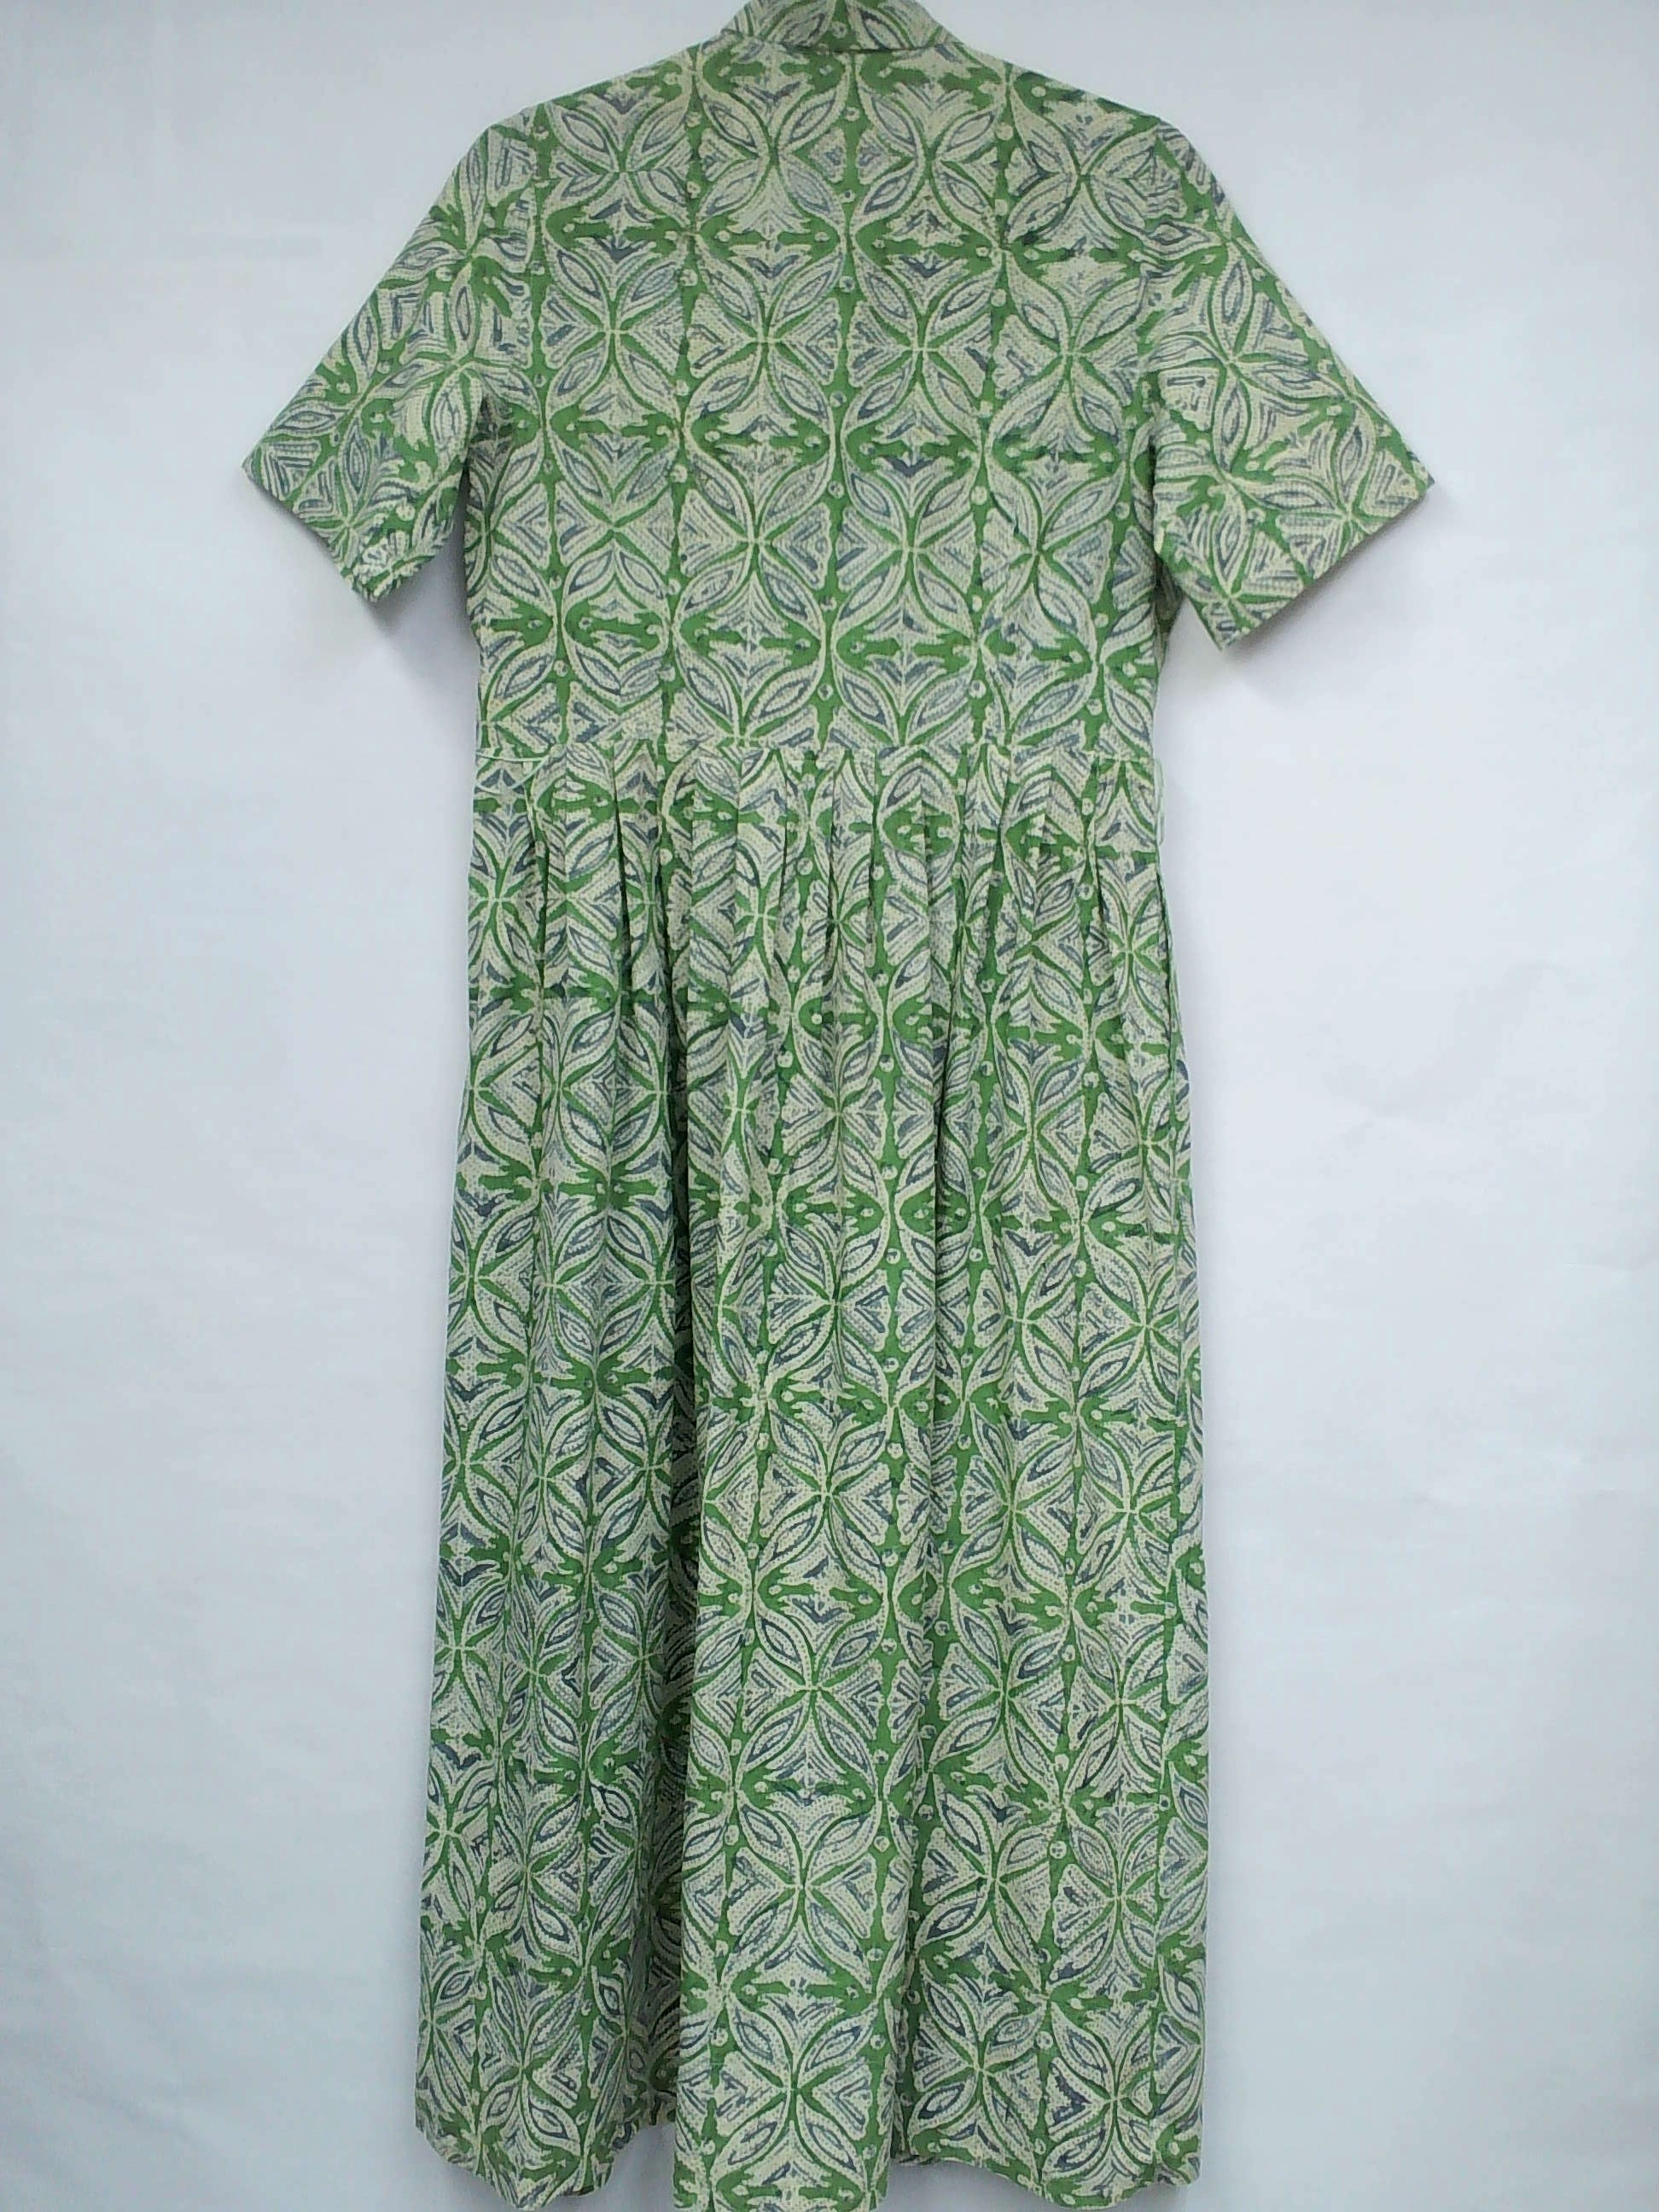seam: (460, 730, 580, 866)
